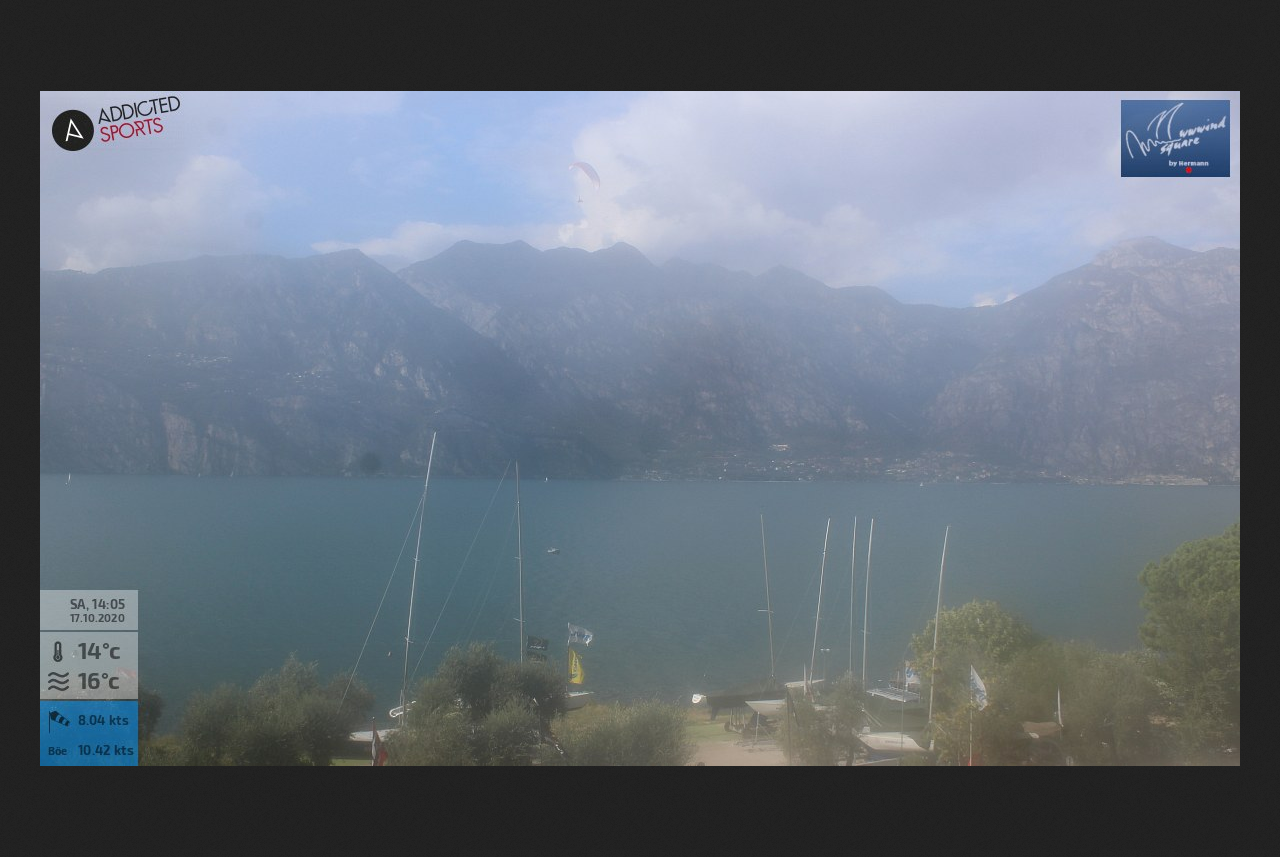yes: (567, 624, 594, 651)
